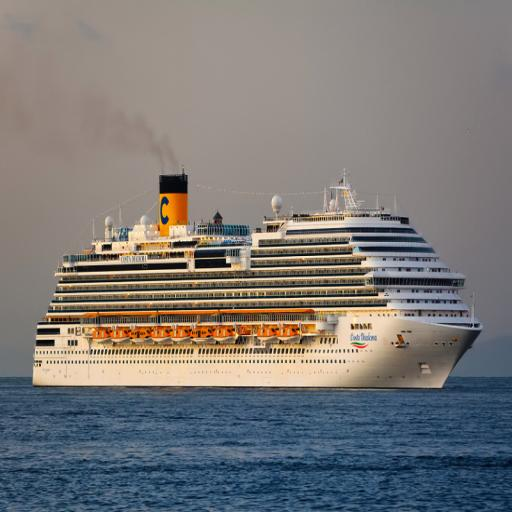cruises: (20, 157, 489, 391)
